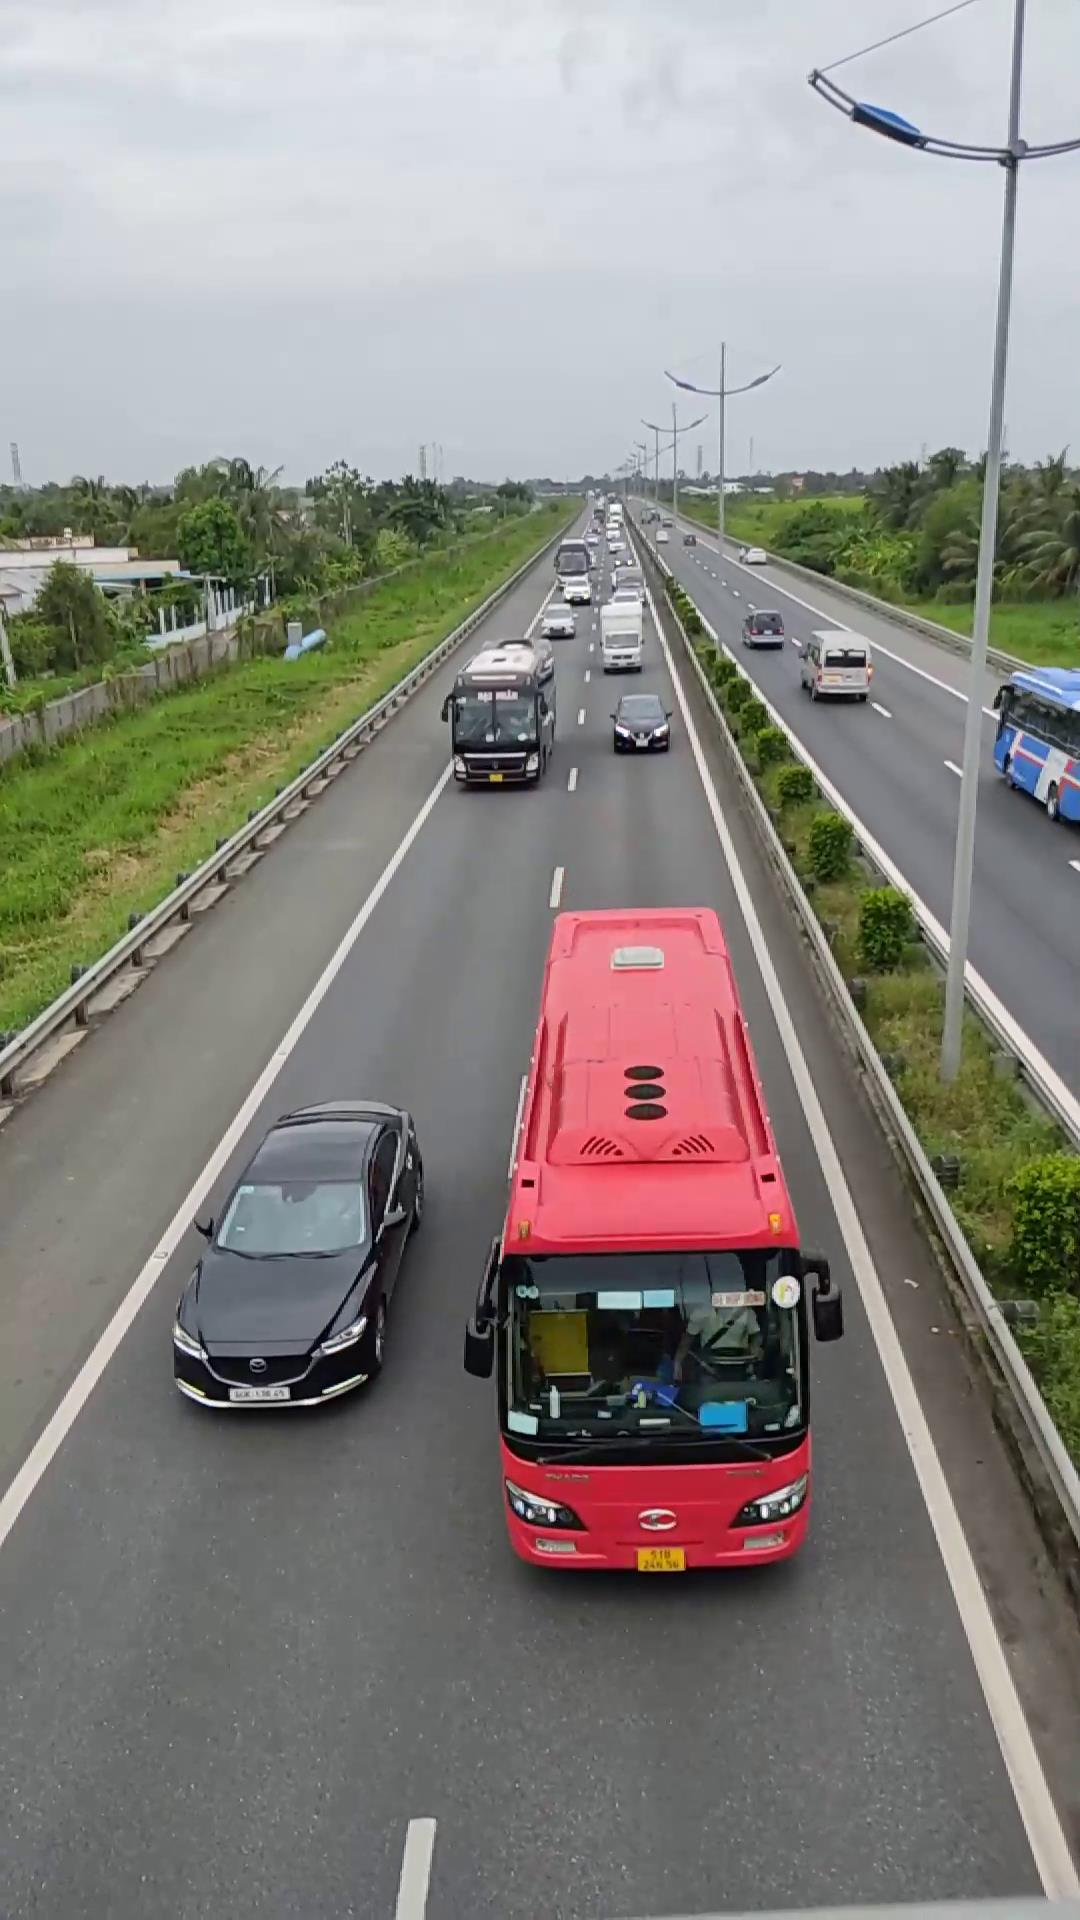bus: (470, 900, 836, 1576), (446, 639, 555, 787)
car: (167, 1098, 425, 1411), (796, 624, 874, 700)
truck: (989, 663, 1078, 823)
